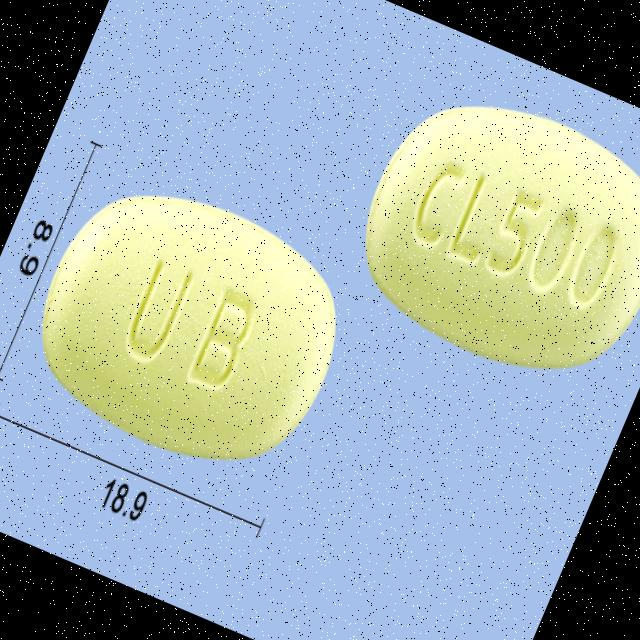Clad: (1, 148, 376, 505), (323, 57, 640, 416)
